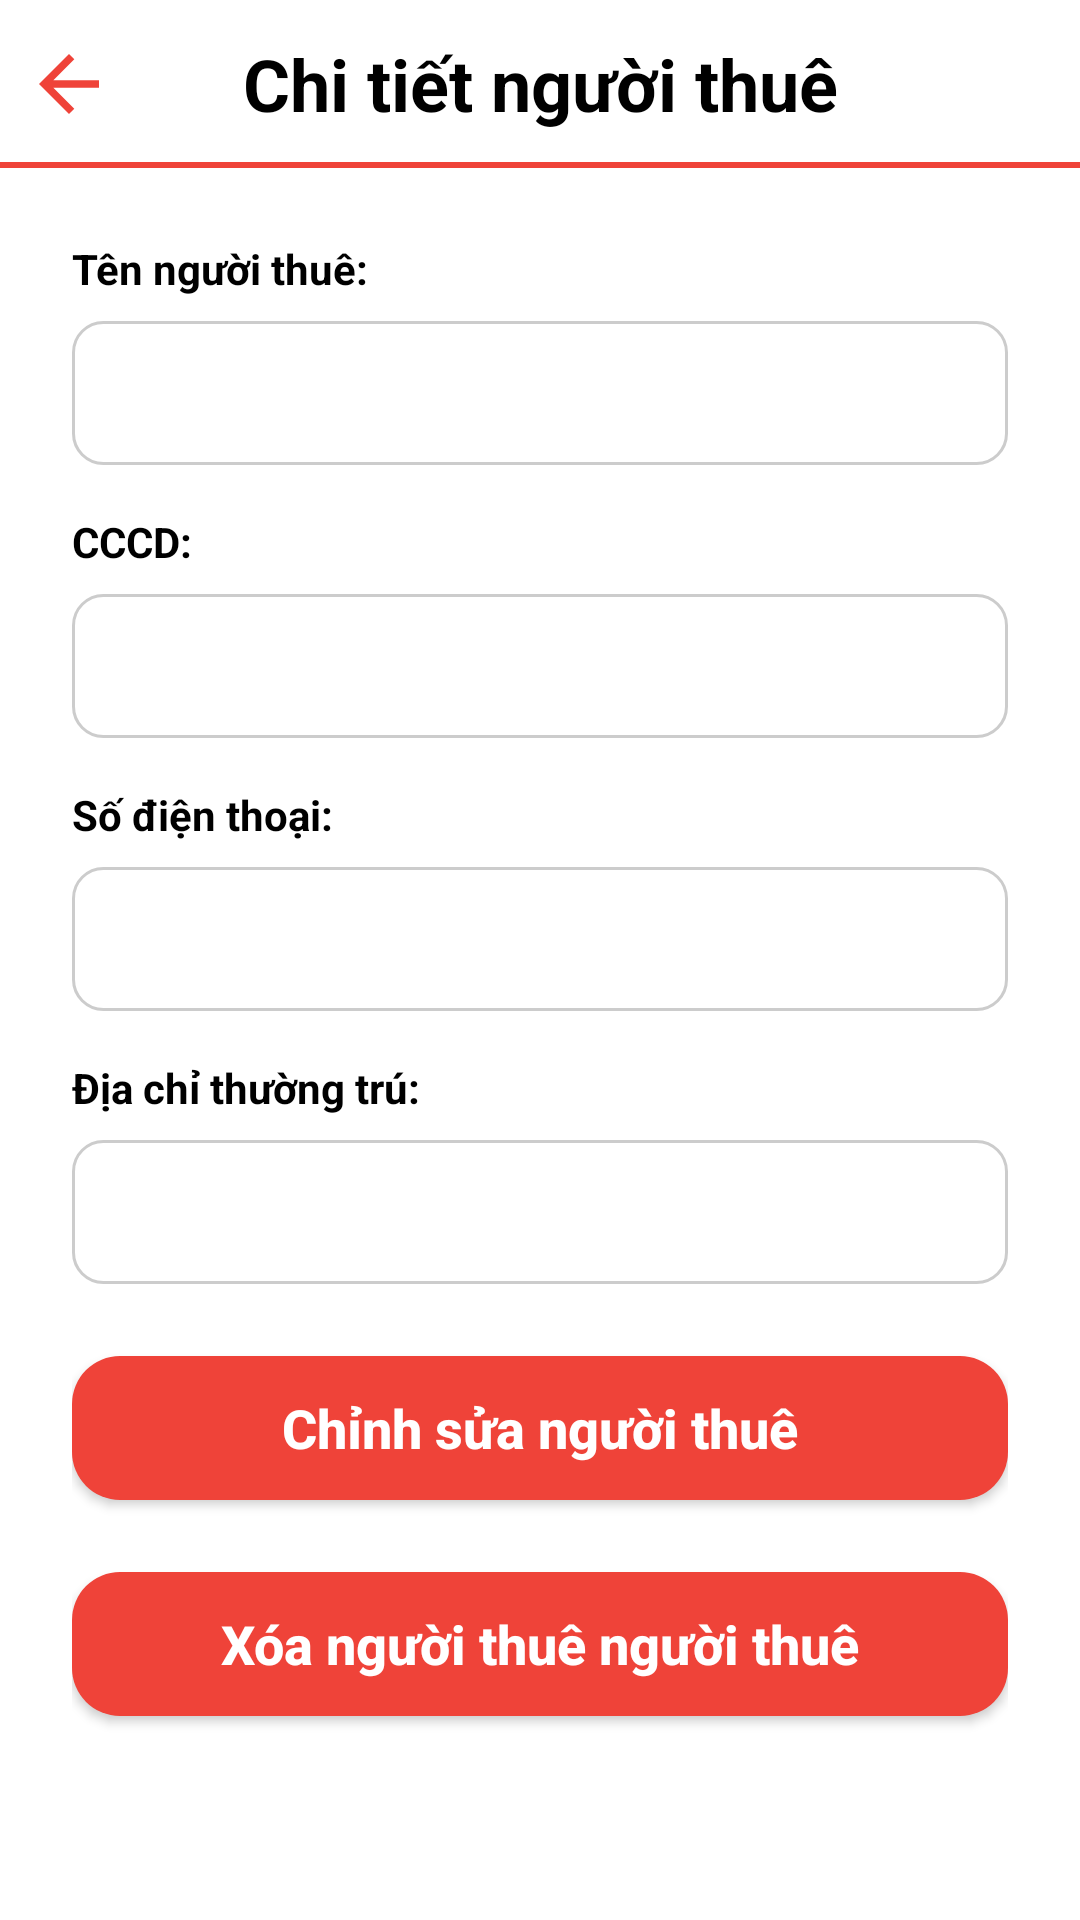

Locate icon controls on the screen. Image size 1080w x 1920h, boxes as rect(x1, y1, x2, y2).
back: rect(39, 54, 99, 114)
